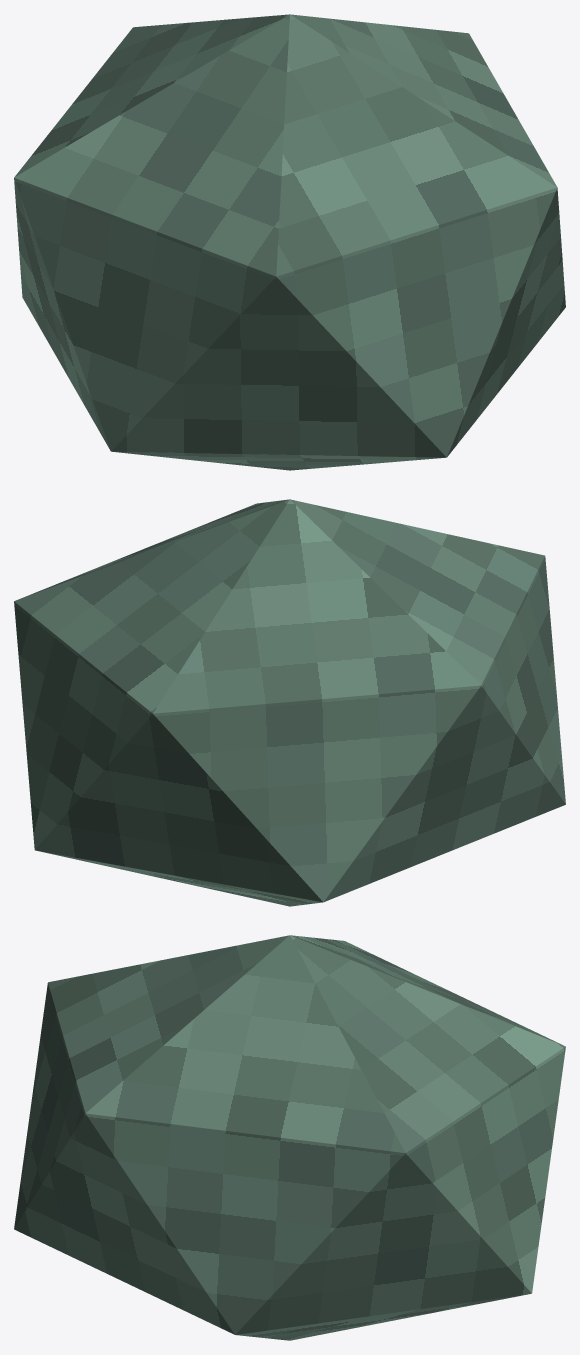
Rendered from rock_25.glb.
3 renders of one model, top to bottom at view 1: azimuth 30°, elevation 25°; view 2: azimuth 150°, elevation 25°; view 3: azimuth 270°, elevation 25°, orthographic. The views are drawn at different scales.
Parts seen in each view (by area): view 1: WeatheredStone; view 2: WeatheredStone; view 3: WeatheredStone.
Part boxes in pixels (box(x1,y1,x2,y2)): WeatheredStone: box(14, 14, 565, 470); WeatheredStone: box(14, 499, 565, 906); WeatheredStone: box(14, 935, 565, 1340).
Size of the model in its own units: 1.46 by 1.3 by 1.61.
Materials: 1 (1 with a texture image).
